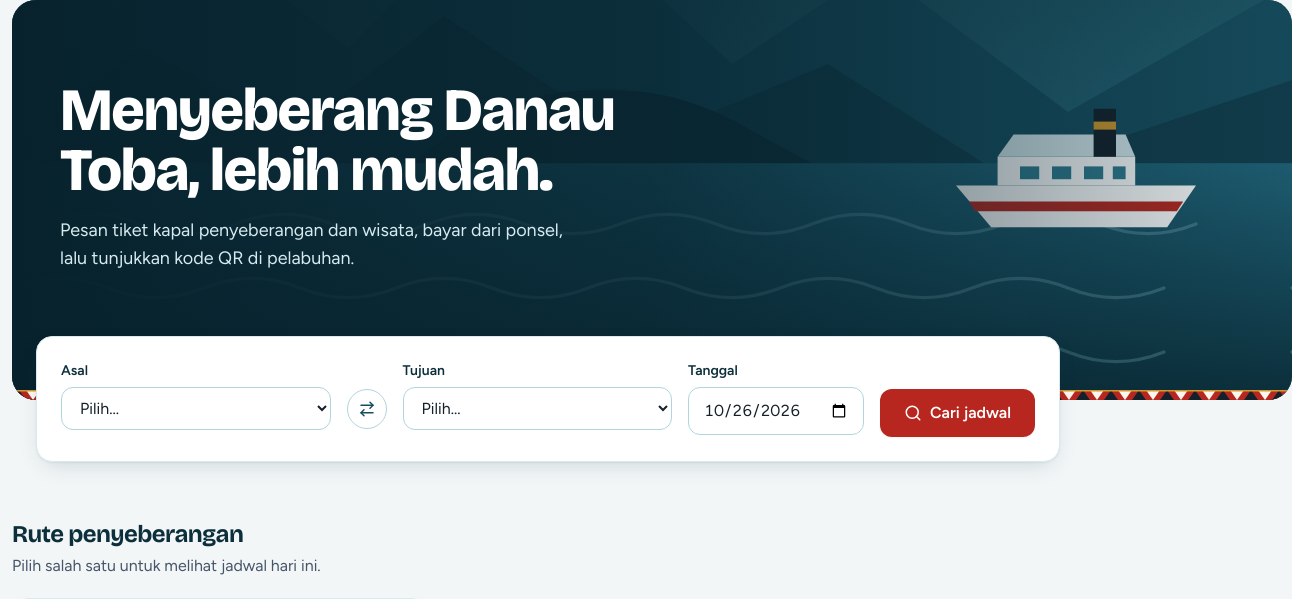
Test case: HomePage › tanggal kosong ditolak
Select "Ajibata" in the dropdown with id "origin" at (196, 408), box [61, 387, 330, 430]
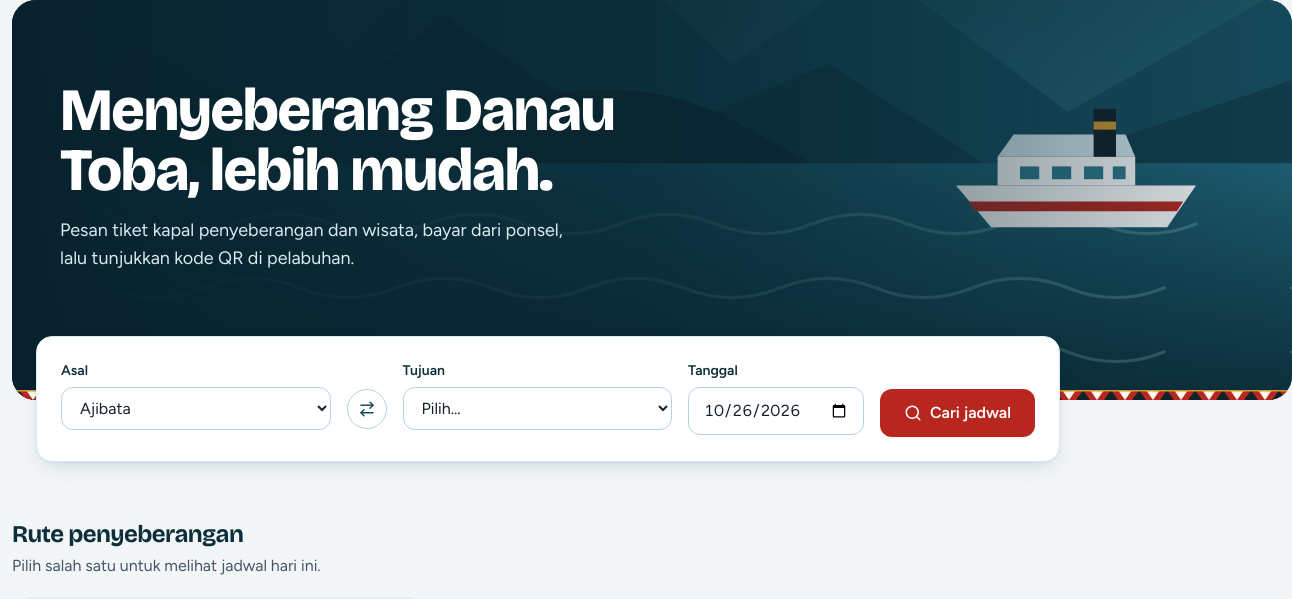
Select "Tomok" in the dropdown with id "destination" at (537, 408), box [402, 387, 672, 430]
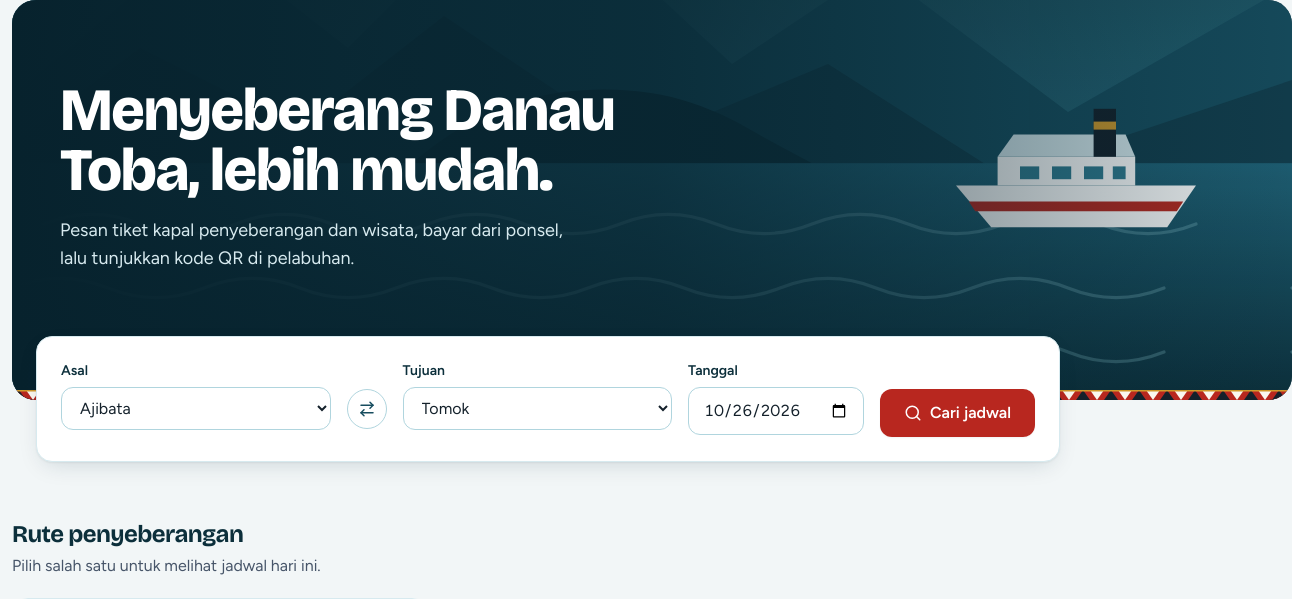
Clear the date field with id "date" at (776, 411), box [688, 387, 864, 435]
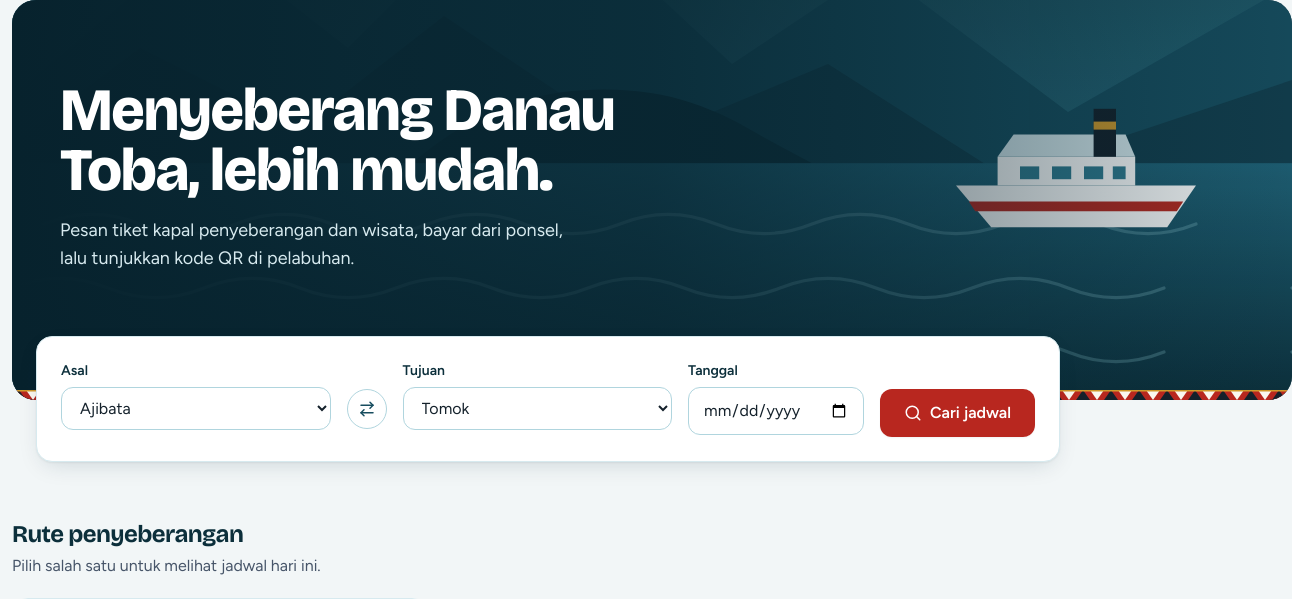
Submit the form, box [61, 361, 1035, 437]
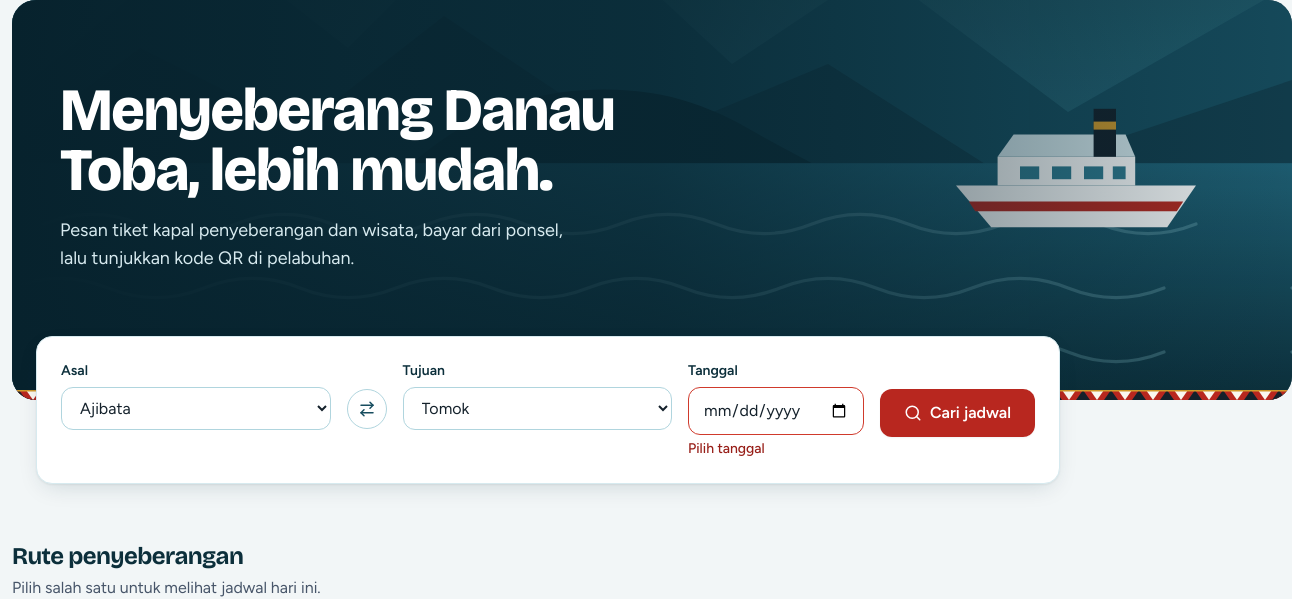
Expected: the text "Pilih tanggal" is shown, [688, 440, 765, 457]
